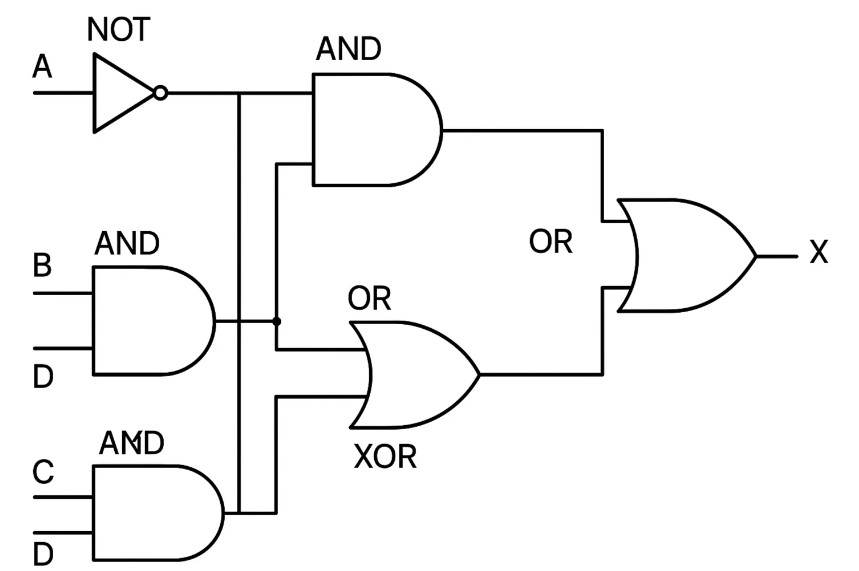and gate: (309, 67, 450, 193), (89, 260, 224, 384), (90, 459, 234, 566)
not gate: (88, 47, 177, 138)
or gate: (612, 192, 766, 317), (343, 314, 490, 436)
